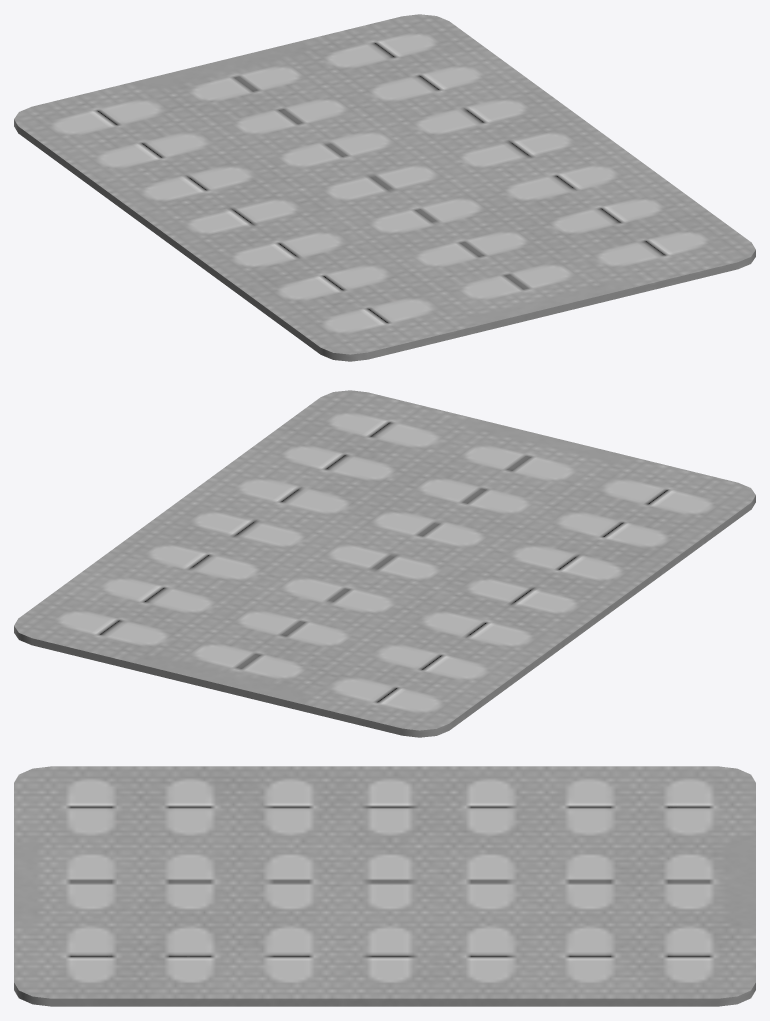
The model's file is HH_Blister_Pack_02.fbx.
3 views of the same model, one above another, from view 1: azimuth 30°, elevation 25°; view 2: azimuth 150°, elevation 25°; view 3: azimuth 270°, elevation 25° (orthographic). The views are drawn at different scales.
Parts seen in each view (by area): view 1: HH_Blister_Pack_02; view 2: HH_Blister_Pack_02; view 3: HH_Blister_Pack_02.
Boxes of the visible parts, <box> form: HH_Blister_Pack_02: <box>14,14,755,361</box>; HH_Blister_Pack_02: <box>14,390,755,737</box>; HH_Blister_Pack_02: <box>14,766,755,1006</box>.
Size of the model in its own units: 11.3 by 0.1786 by 15.26.
